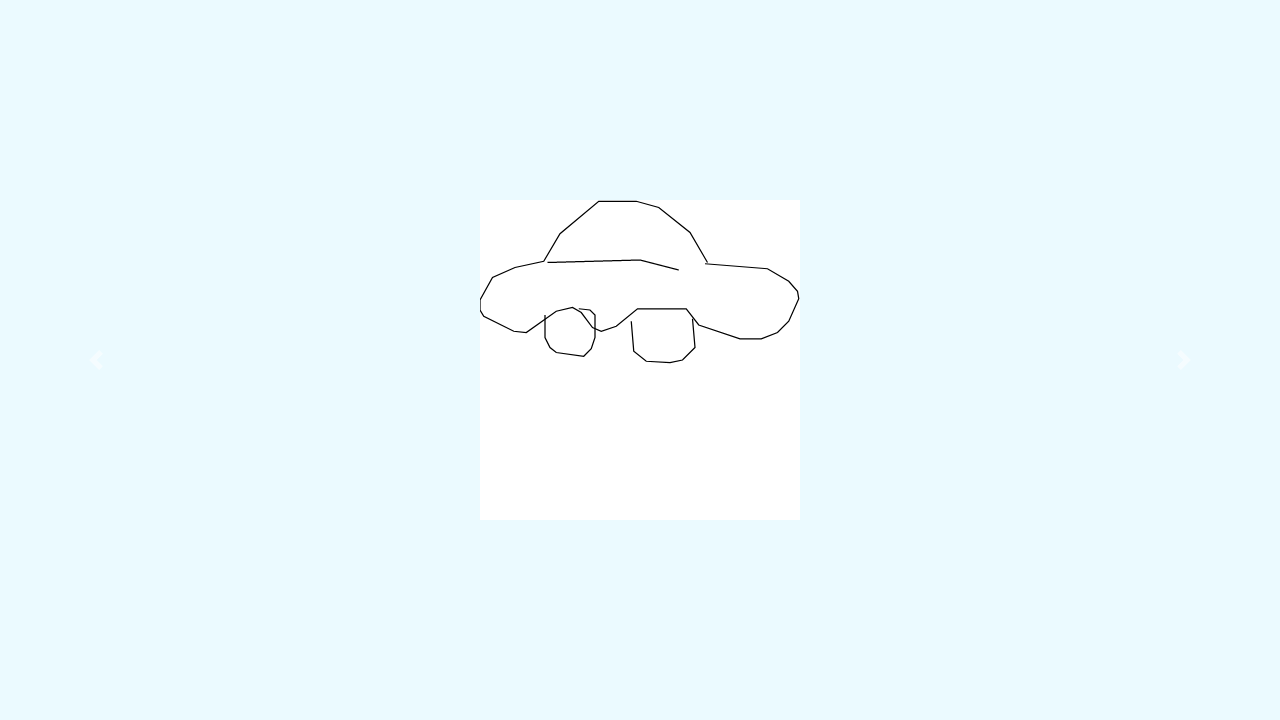car: (473, 195, 803, 367)
